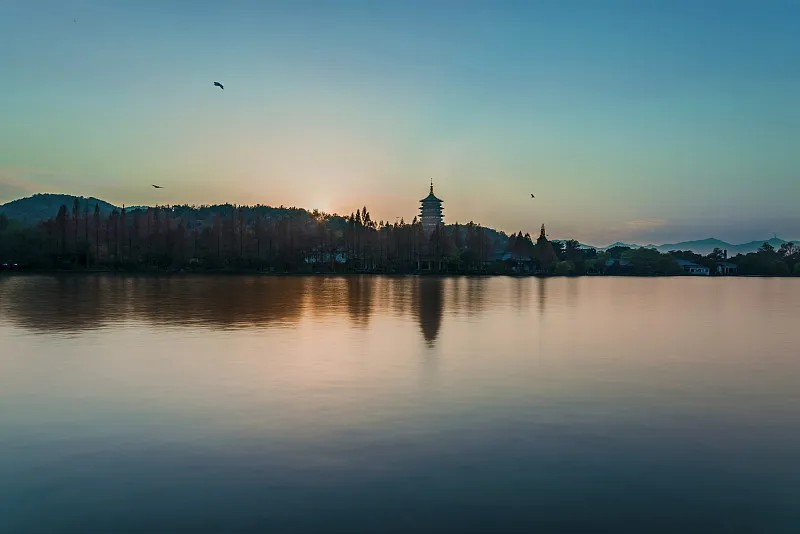Leifeng: (415, 177, 445, 230)
